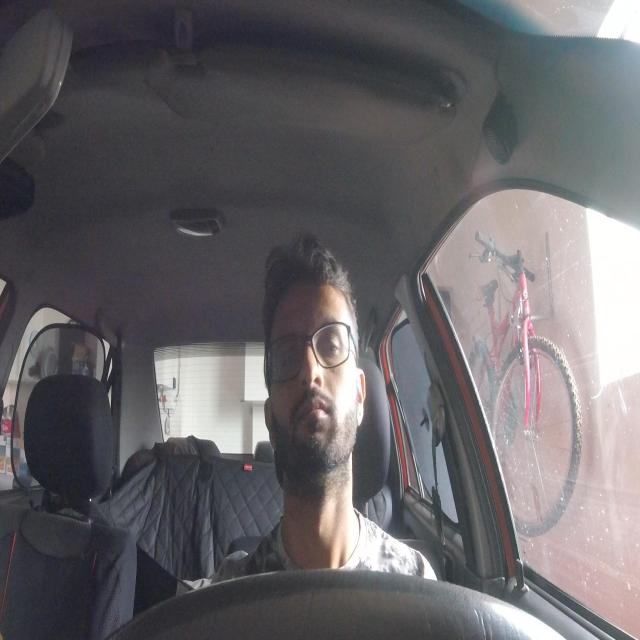open: (316, 314, 346, 372)
